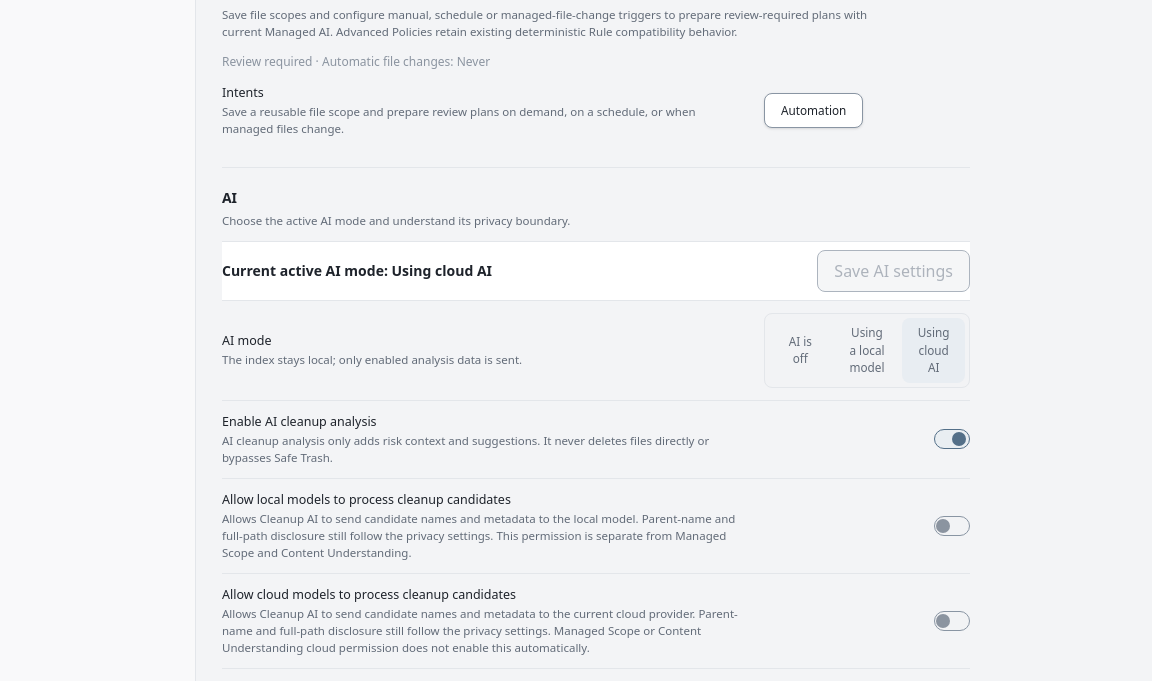
settings view behavior › disables AI-dependent controls while off and restores preserved configuration when re-enabled
(page scrolled)
Step 1. Click the radio button labelled "AI is off" → (800, 350), box [769,318,832,383]
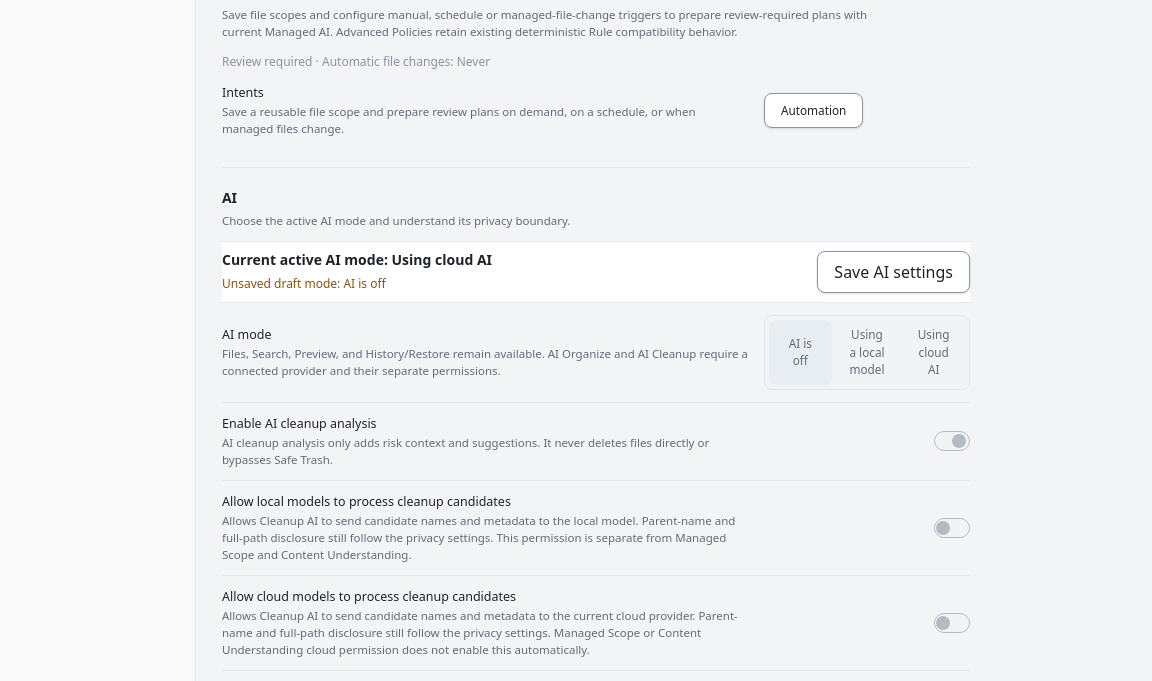
Now the switch with id "settings-ai-cleanup" is disabled, box [222,415,377,432]
Now the button "Save AI settings" is enabled, box [817,251,970,293]
Step 2. Click the radio button labelled "Using cloud AI" → (934, 352), box [902,320,965,385]
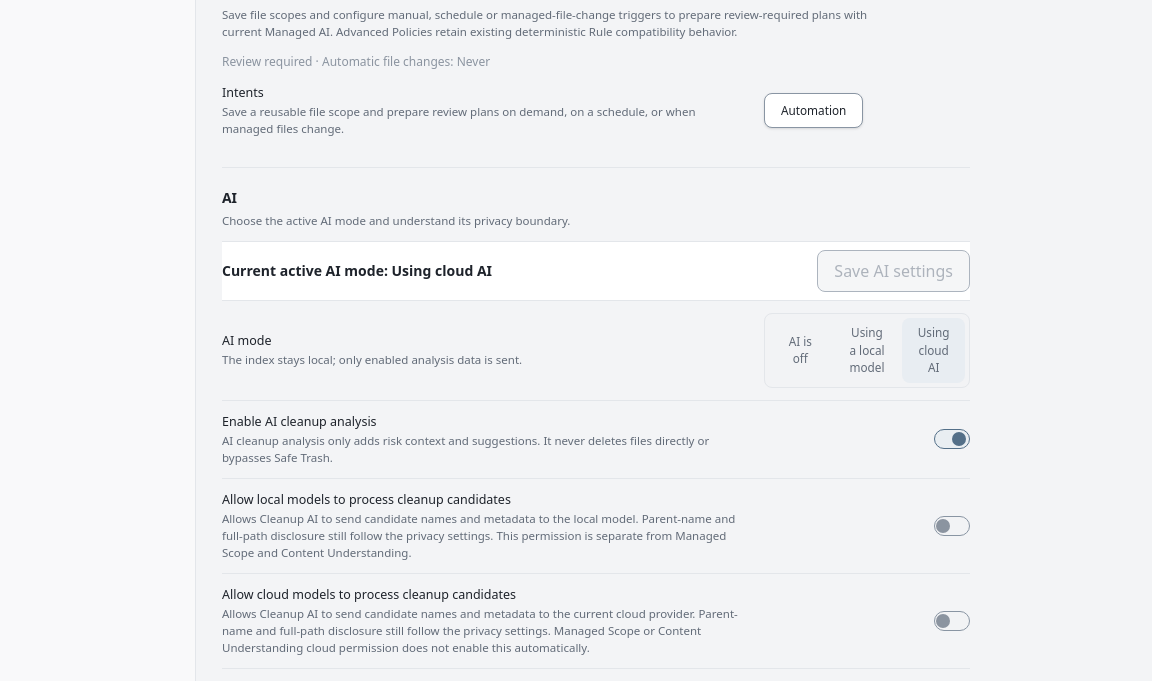
Now the switch with id "settings-ai-cleanup" is enabled, box [222,413,377,430]
